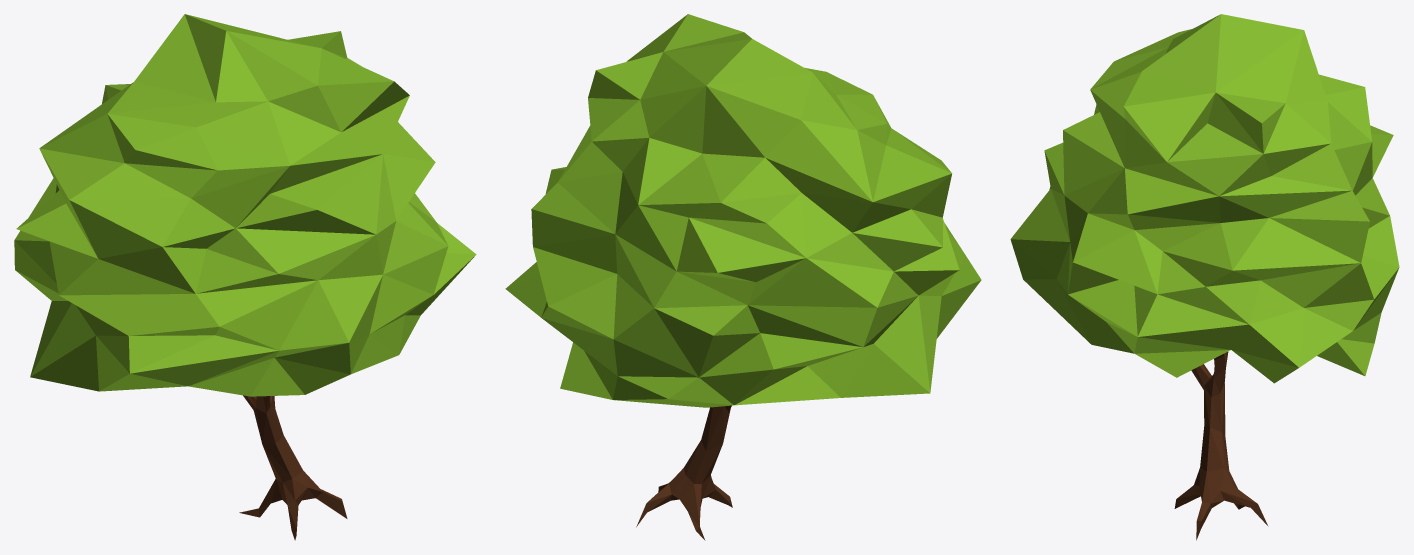
The model's file is Pau Brasil2.fbx.
3 renders of one model, left to right at view 1: azimuth 30°, elevation 25°; view 2: azimuth 150°, elevation 25°; view 3: azimuth 270°, elevation 25°, orthographic. The views are drawn at different scales.
Visible parts, largest first — view 1: Tree; view 2: Tree; view 3: Tree.
Boxes of the visible parts, x1,y1,x2,y2 form: Tree: (14, 14, 476, 540); Tree: (505, 14, 981, 540); Tree: (1010, 14, 1399, 540).
Bounding box in the file's own units: 7.2 × 8.48 × 6.27.
